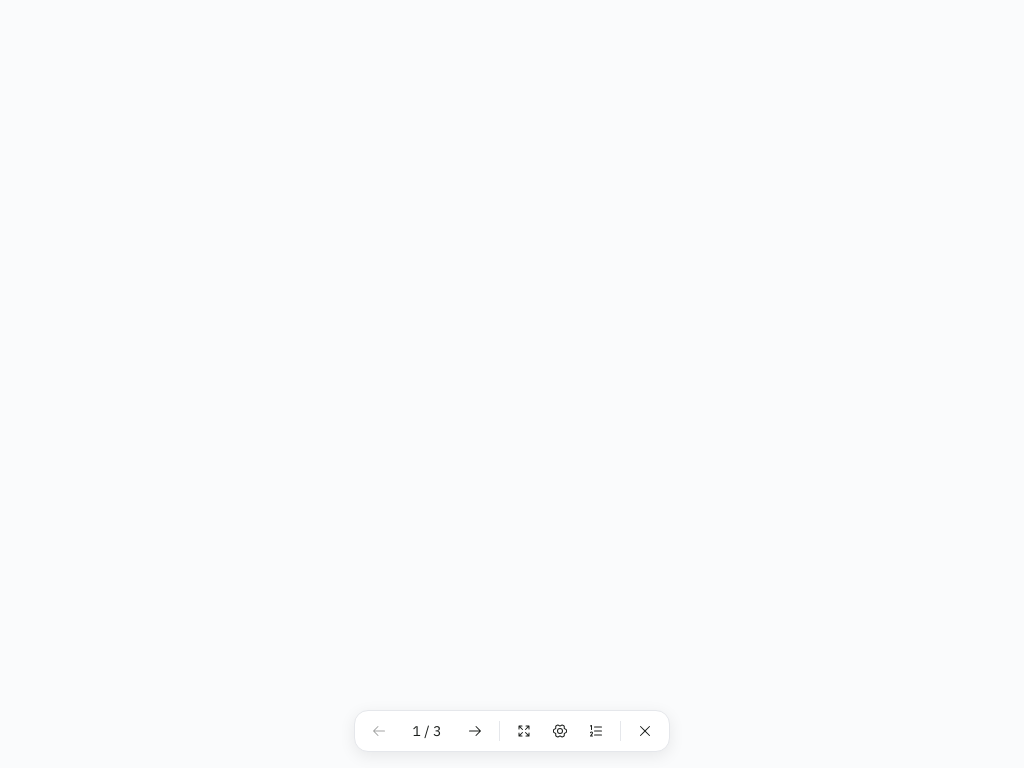
Test case: PresentationBar › order_button_opens_the_frame_order_panel_and_arrow_keys_reorder
Click the button named "Frame order" at (596, 731), box 580,715 -> 612,747
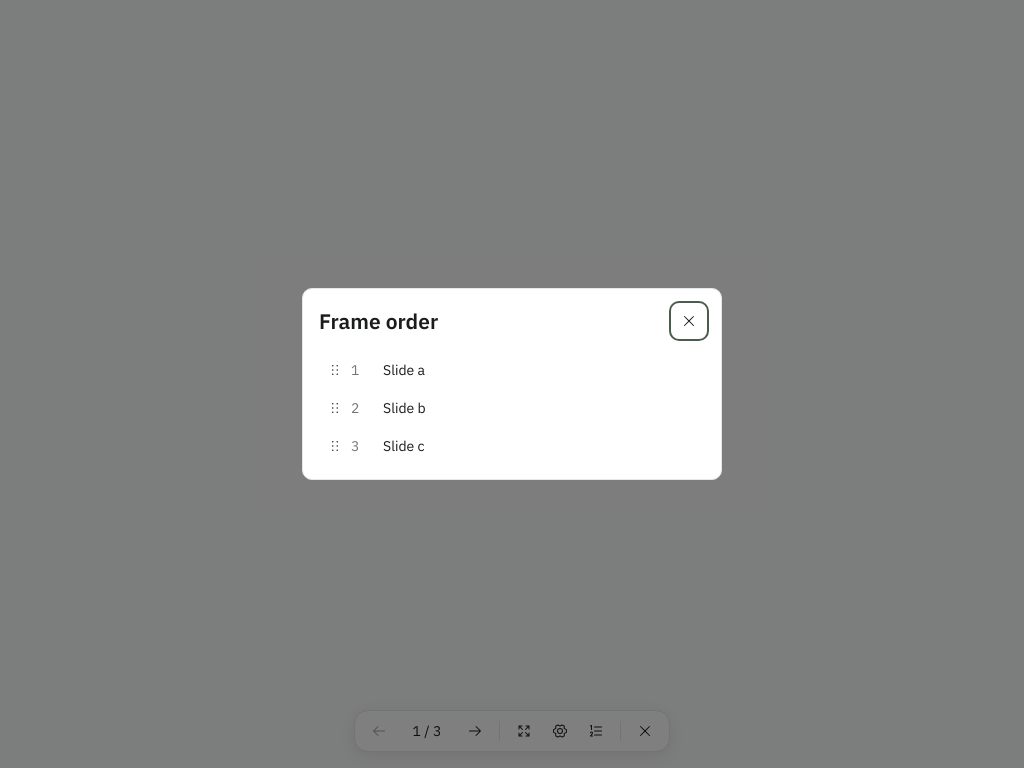
Expected: the options read "1Slide a", "2Slide b", "3Slide c", in this order
Press ArrowDown in the option "1 Slide a", box 327,361 -> 425,379
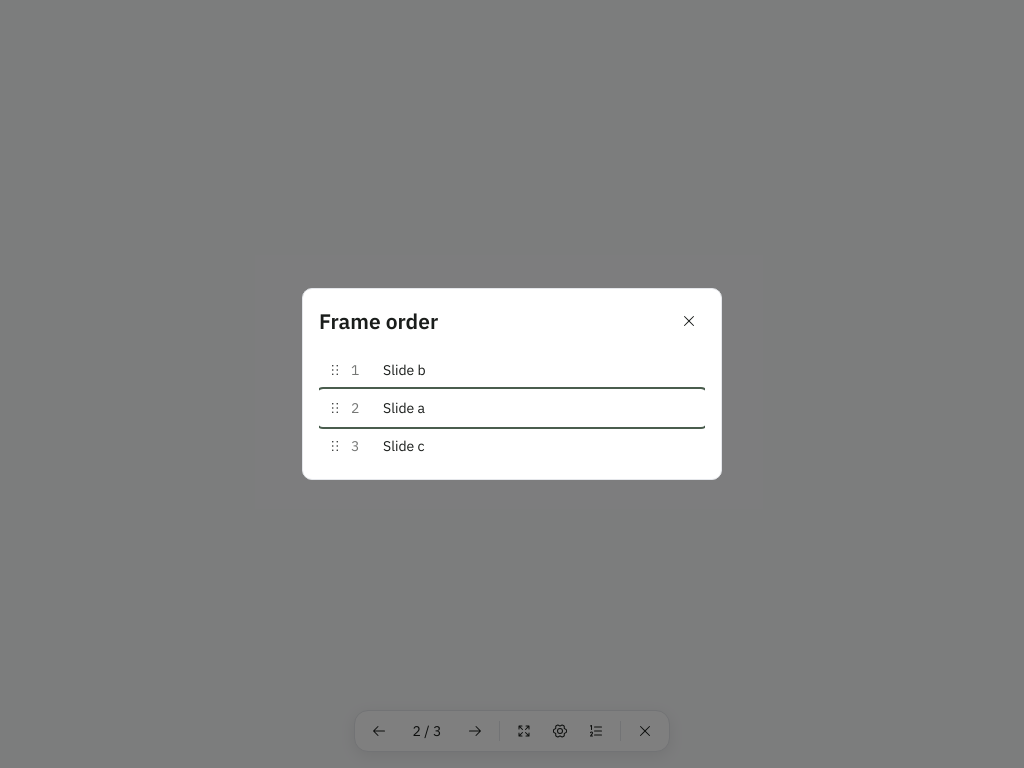
Press Escape
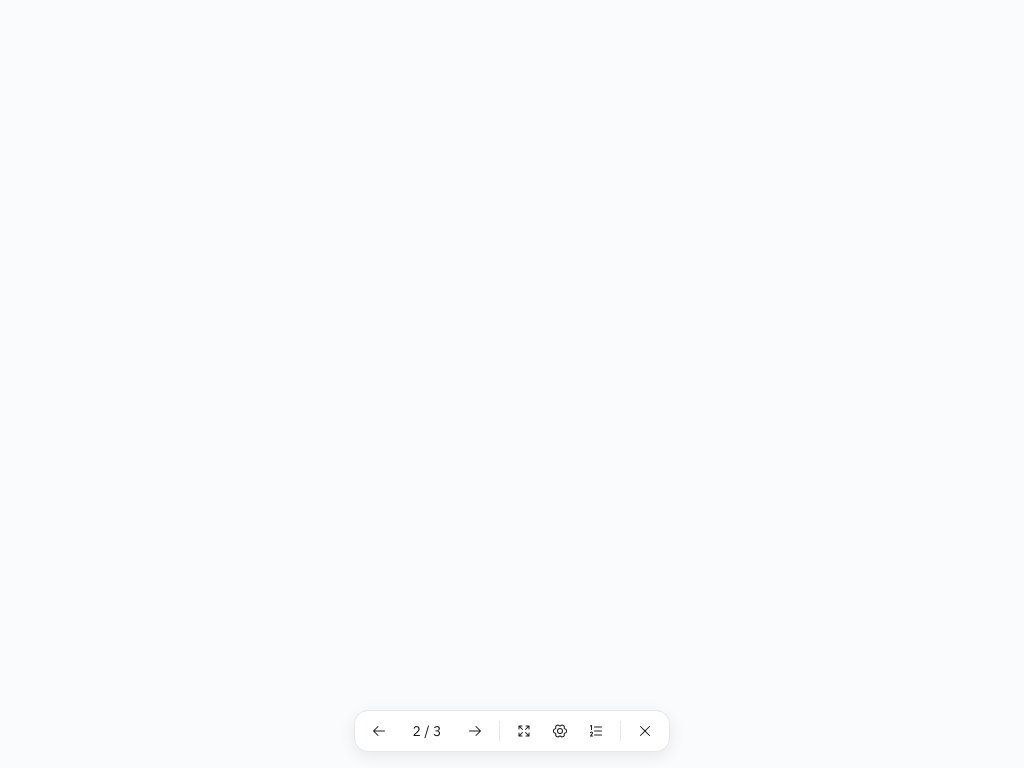
Expected: the dialog is gone
